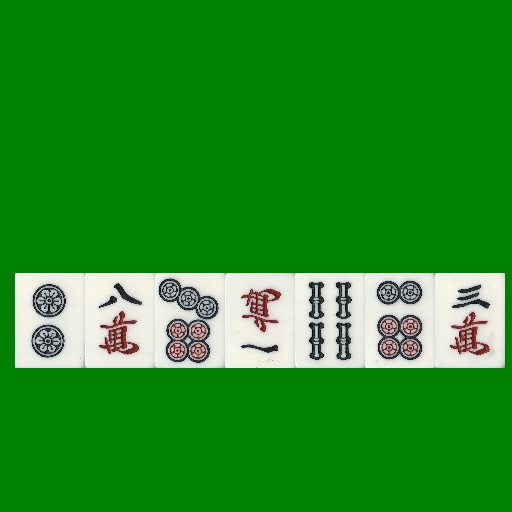1m: (225, 273, 295, 368)
2p: (15, 273, 85, 368)
3m: (435, 273, 505, 368)
4s: (295, 273, 365, 368)
6p: (365, 273, 435, 368)
7p: (155, 273, 225, 368)
8m: (85, 273, 155, 368)
